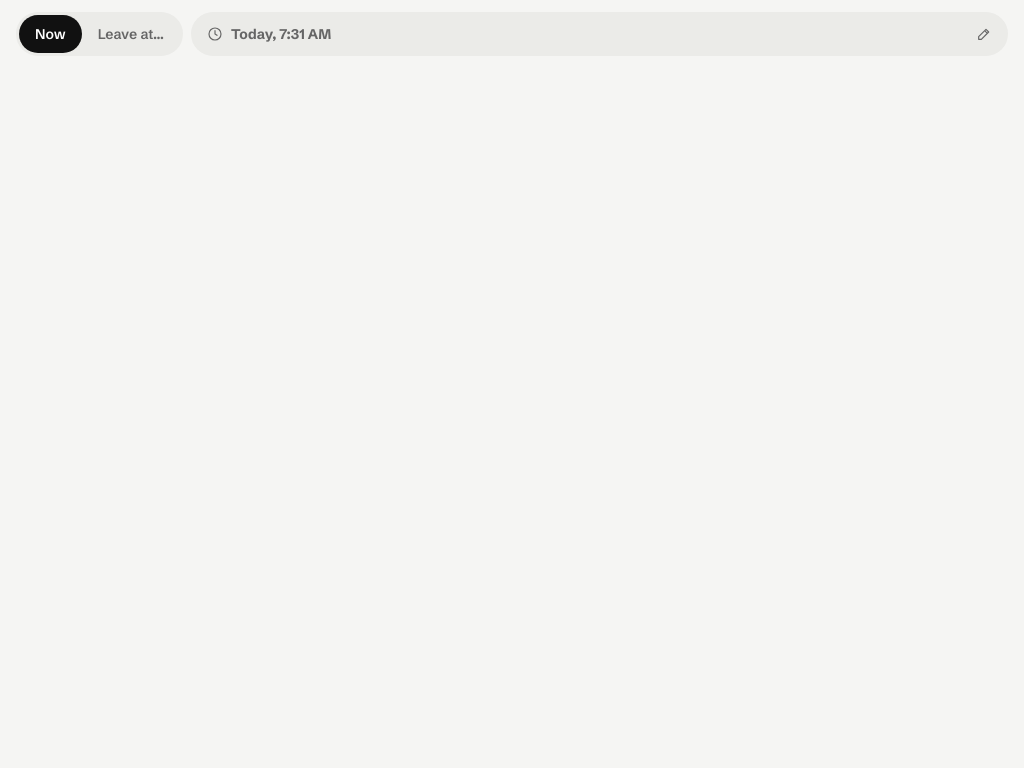
it: WhenSection › opens the picker when Leave at is chosen
Click the radio button labelled "Leave at…" at (131, 34), box [98,24,164,42]
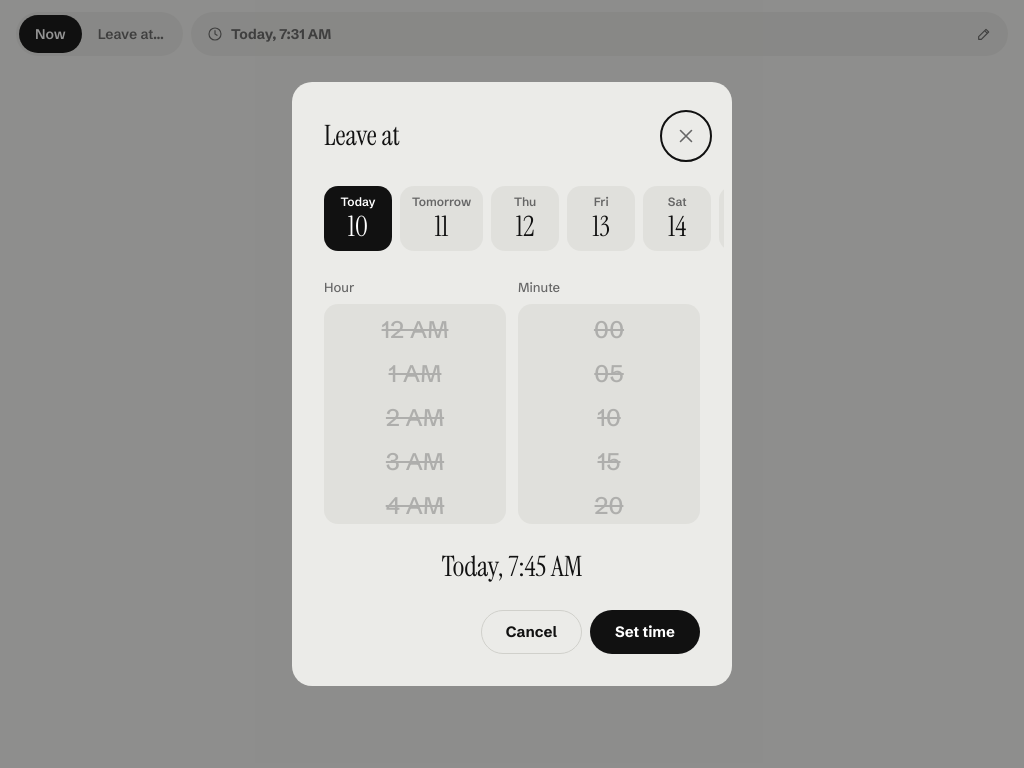
Expected: the dialog "Leave at" is shown, [292,82,732,686]
